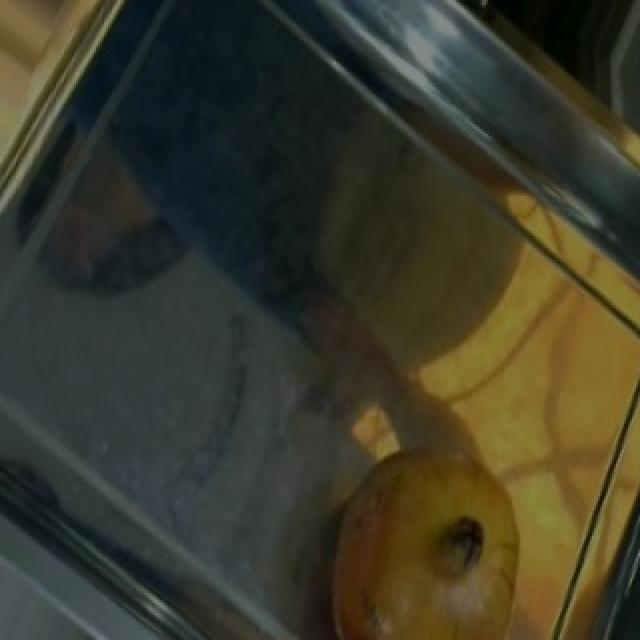fruit: (296, 414, 560, 640)
